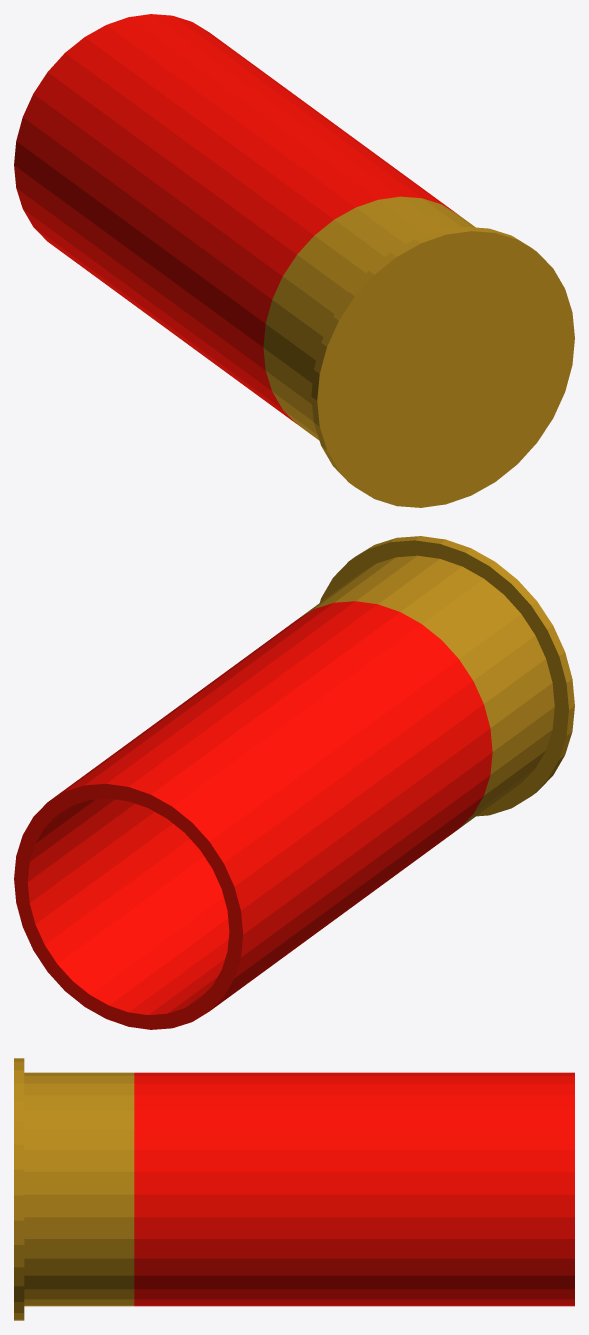
Rendered from shotgunshell.fbx.
3 renders of one model, top to bottom at view 1: azimuth 30°, elevation 25°; view 2: azimuth 150°, elevation 25°; view 3: azimuth 270°, elevation 25°, orthographic. The views are drawn at different scales.
Parts seen in each view (by area): view 1: Cylinder; view 2: Cylinder; view 3: Cylinder.
Part boxes in pixels (x1=…): Cylinder: x1=14, y1=14, x2=574, y2=507; Cylinder: x1=14, y1=536, x2=574, y2=1029; Cylinder: x1=14, y1=1058, x2=574, y2=1320.
Bounding box in the file's own units: 49.19 × 49.19 × 105.
Materials: 1 (1 with a texture image).
